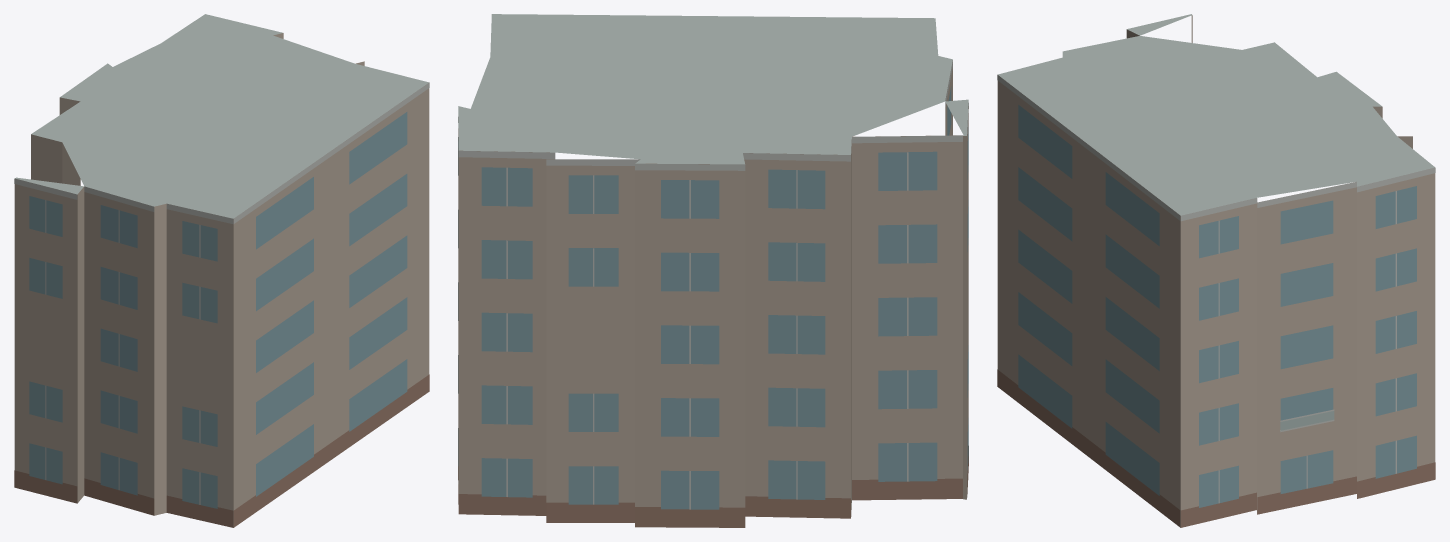
The model's file is survey-upis-32656776.glb.
The picture shows the model from 3 angles, left to right: view 1: azimuth 30°, elevation 25°; view 2: azimuth 150°, elevation 25°; view 3: azimuth 270°, elevation 25°; orthographic projection. The views are drawn at different scales.
Parts seen in each view (by area): view 1: survey-upis-32656776.tmp; view 2: survey-upis-32656776.tmp; view 3: survey-upis-32656776.tmp.
Part boxes in pixels (x1,y1,x2,y2): survey-upis-32656776.tmp: (14, 14, 429, 527); survey-upis-32656776.tmp: (458, 14, 968, 527); survey-upis-32656776.tmp: (997, 14, 1435, 527).
Bounding box in the file's own units: 18.86 × 13.6 × 17.3.
